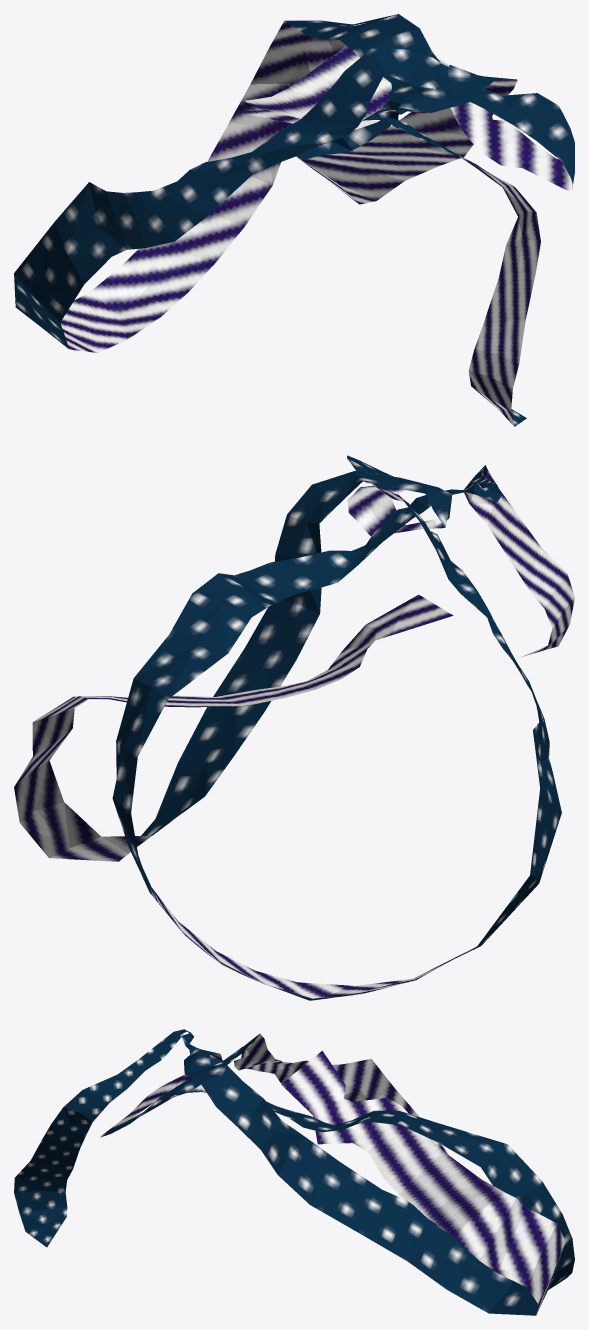
3 views of the same model, one above another, from view 1: azimuth 30°, elevation 25°; view 2: azimuth 150°, elevation 25°; view 3: azimuth 270°, elevation 25° (orthographic). The views are drawn at different scales.
Visible parts, largest first — view 1: Mesh2; view 2: Mesh2; view 3: Mesh2.
Boxes of the visible parts, <box> form: Mesh2: <box>14,14,574,426</box>; Mesh2: <box>14,455,574,1000</box>; Mesh2: <box>14,1029,574,1315</box>.
Size of the model in its own units: 0.812 by 0.6045 by 1.08.
Materials: 2 (2 with a texture image).
